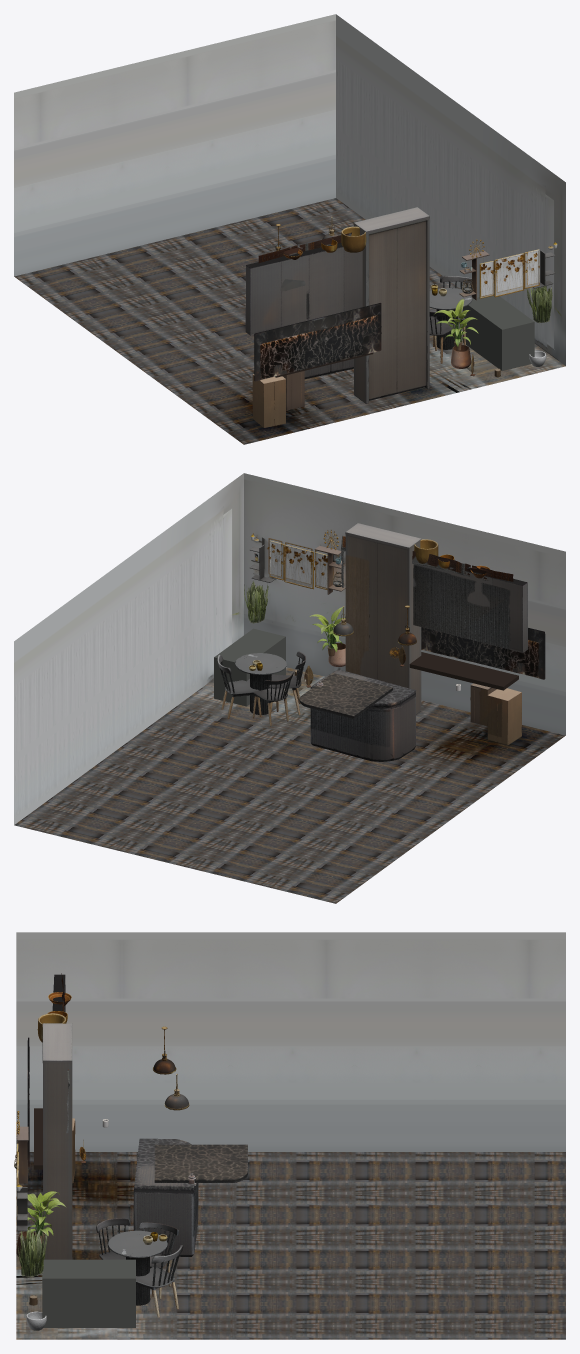
File: scene_lite.glb
3 renders of one model, top to bottom at view 1: azimuth 30°, elevation 25°; view 2: azimuth 150°, elevation 25°; view 3: azimuth 270°, elevation 25°, orthographic. The views are drawn at different scales.
Parts seen in each view (by area): view 1: room_wall_z_min, room_floor, room_wall_x_max, 031_kitchen_cabinets, 053_wall_cabinet, 035_marble_backsplash, 024_dining_chair, 030_kitchen_cabinets, 051_wall_art, 027_dining_table, room_relief_00, 040_plant (+6 smaller); view 2: room_floor, room_wall_x_max, room_wall_z_max, 031_kitchen_cabinets, 053_wall_cabinet, 034_kitchen_island, 035_marble_backsplash, 002_bar_counter, 024_dining_chair, 001_bar_counter, 030_kitchen_cabinets, 027_dining_table (+9 smaller); view 3: room_wall_x_min, room_floor, 031_kitchen_cabinets, 024_dining_chair, 034_kitchen_island, 002_bar_counter, 027_dining_table, 022_dining_chair, 042_plant, 040_plant, 025_dining_chair, 023_dining_chair (+2 smaller).
Boxes of the visible parts, x1=… form: room_wall_z_min: x1=14, y1=14, x2=335, y2=276; room_floor: x1=14, y1=198, x2=565, y2=444; room_wall_x_max: x1=336, y1=14, x2=565, y2=365; 031_kitchen_cabinets: x1=353, y1=207, x2=429, y2=403; 053_wall_cabinet: x1=245, y1=243, x2=362, y2=335; 035_marble_backsplash: x1=254, y1=303, x2=381, y2=381; 024_dining_chair: x1=463, y1=294, x2=534, y2=370; 030_kitchen_cabinets: x1=252, y1=374, x2=285, y2=427; 051_wall_art: x1=494, y1=253, x2=524, y2=297; 027_dining_table: x1=429, y1=287, x2=472, y2=349; room_relief_00: x1=258, y1=232, x2=351, y2=291; 040_plant: x1=434, y1=299, x2=478, y2=350; room_floor: x1=14, y1=667, x2=565, y2=903; room_wall_x_max: x1=14, y1=473, x2=243, y2=824; room_wall_z_max: x1=244, y1=473, x2=565, y2=735; 031_kitchen_cabinets: x1=345, y1=523, x2=421, y2=714; 053_wall_cabinet: x1=413, y1=564, x2=527, y2=652; 034_kitchen_island: x1=310, y1=669, x2=416, y2=761; 035_marble_backsplash: x1=421, y1=627, x2=545, y2=679; 002_bar_counter: x1=299, y1=673, x2=392, y2=718; 024_dining_chair: x1=214, y1=628, x2=285, y2=706; 001_bar_counter: x1=409, y1=652, x2=518, y2=690; 030_kitchen_cabinets: x1=487, y1=688, x2=521, y2=745; 027_dining_table: x1=235, y1=653, x2=286, y2=714; room_wall_x_min: x1=16, y1=932, x2=565, y2=1151; room_floor: x1=16, y1=1152, x2=565, y2=1339; 031_kitchen_cabinets: x1=42, y1=1023, x2=72, y2=1259; 024_dining_chair: x1=42, y1=1259, x2=135, y2=1327; 034_kitchen_island: x1=133, y1=1138, x2=198, y2=1256; 002_bar_counter: x1=154, y1=1144, x2=247, y2=1182; 027_dining_table: x1=108, y1=1230, x2=167, y2=1305; 022_dining_chair: x1=136, y1=1245, x2=183, y2=1317; 042_plant: x1=18, y1=1228, x2=47, y2=1277; 040_plant: x1=27, y1=1191, x2=66, y2=1243; 025_dining_chair: x1=96, y1=1218, x2=130, y2=1259; 023_dining_chair: x1=139, y1=1222, x2=178, y2=1299.
Size of the model in its own units: 2.18 by 1.19 by 2.71.
53 materials, 53 textured.
